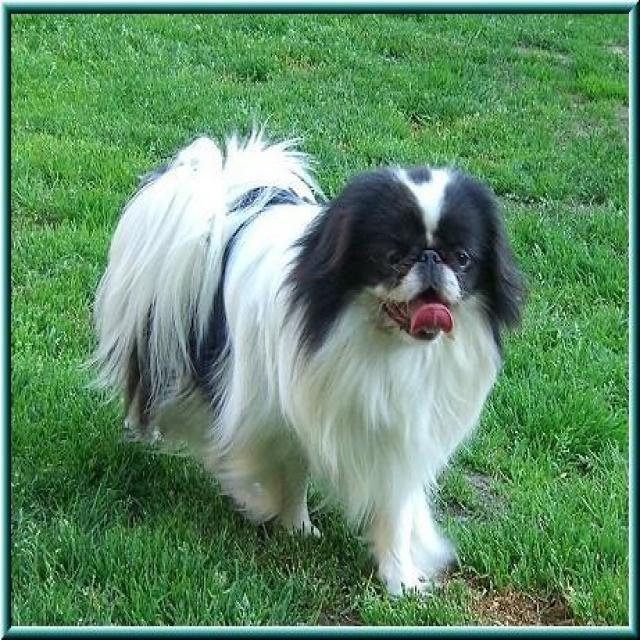good: (90, 133, 524, 583)
